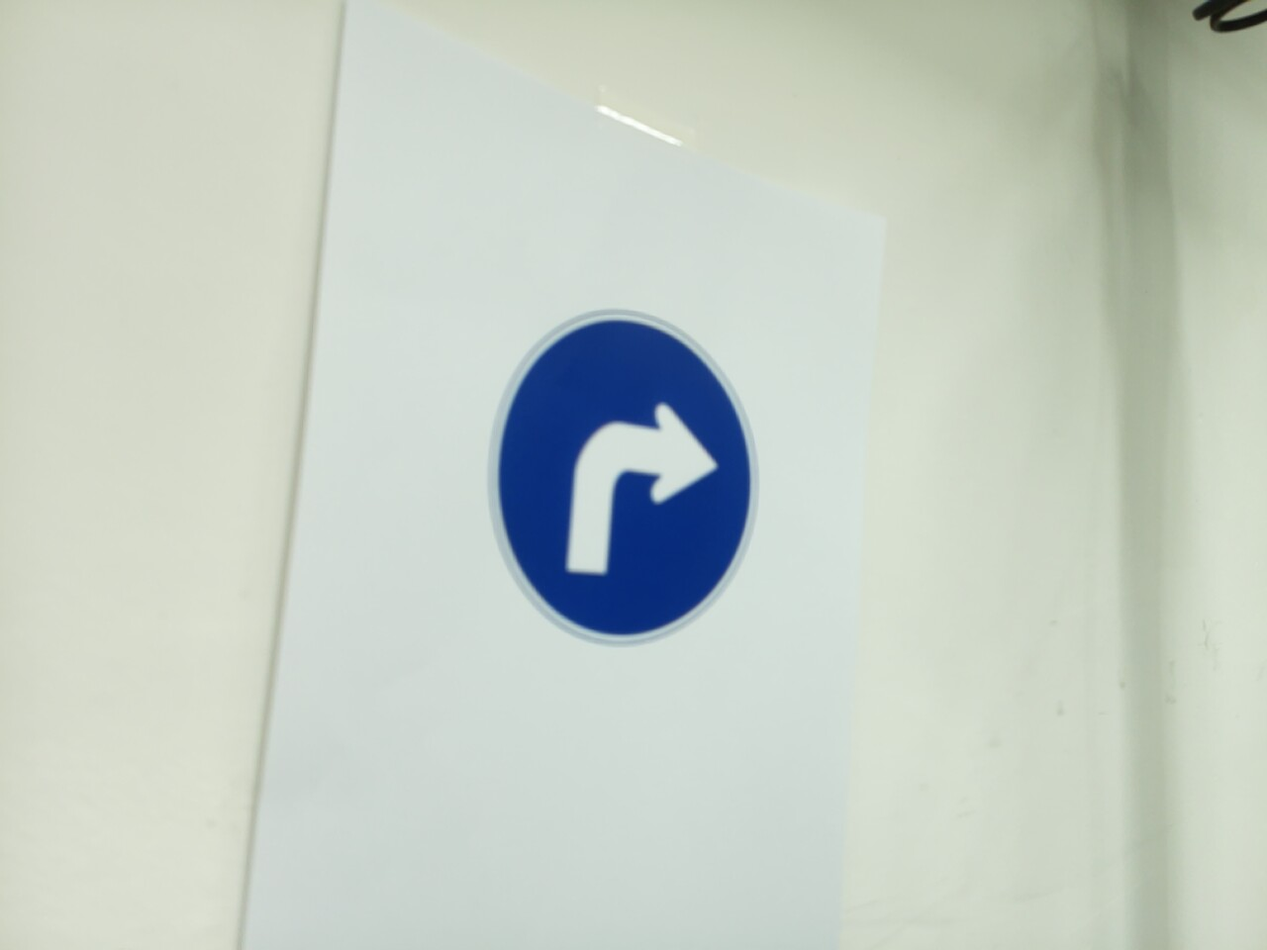right_turn: (489, 310, 759, 645)
